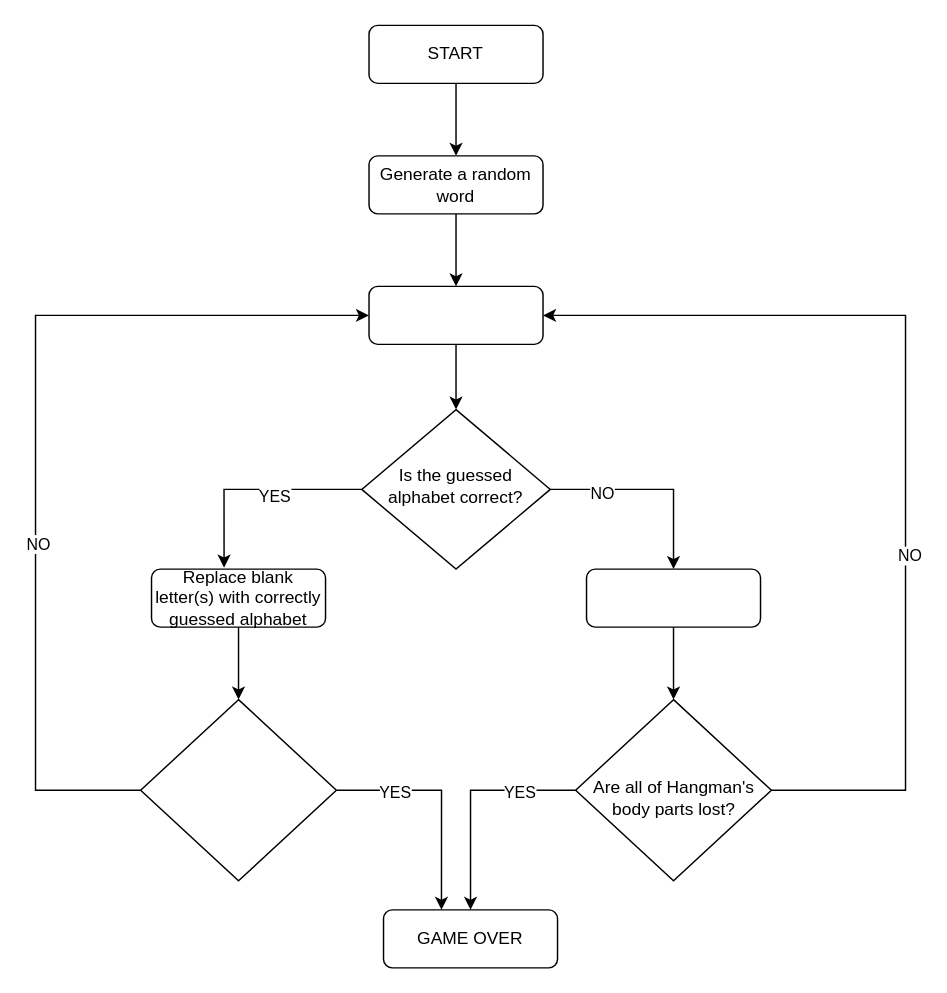
The diagram is 947 pixels wide and 993 high, and some of its shapes have lost their labels. The shapes that lost their labels are listed below. From the top down, each one's centre as x and y in pixels, then its label:
[455,314]: User Guesses An Alphabet
[673,597]: Hangman loses bodypart
[237,789]: Are all the letters in the words guessed correctly?
